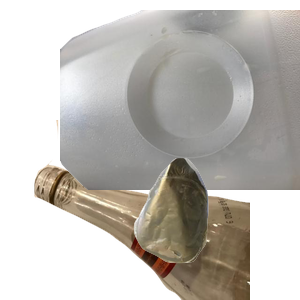glass: (31, 120, 271, 300)
paper: (63, 61, 242, 206)
plastic: (60, 10, 300, 190)
trash: (131, 155, 300, 300)
